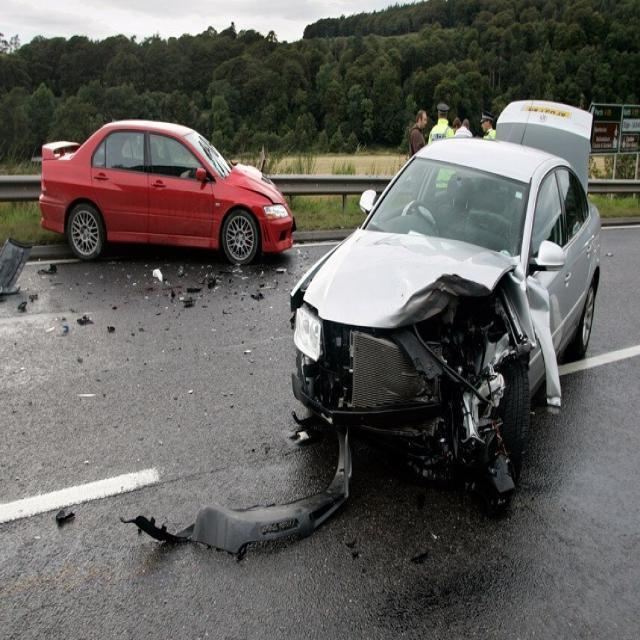accident: (39, 101, 606, 554), (135, 100, 603, 554)
